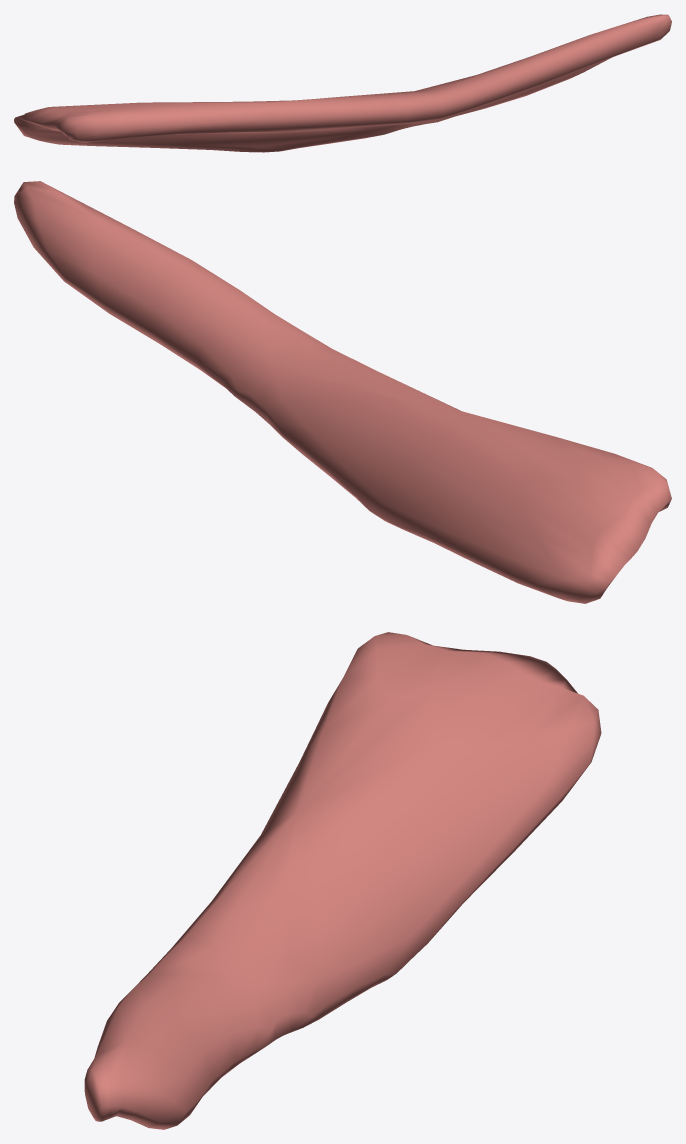
3 renders of one model, top to bottom at view 1: azimuth 30°, elevation 25°; view 2: azimuth 150°, elevation 25°; view 3: azimuth 270°, elevation 25°, orthographic. The views are drawn at different scales.
Visible parts, largest first — view 1: ZA_e9a7b46c023fc6a9; view 2: ZA_e9a7b46c023fc6a9; view 3: ZA_e9a7b46c023fc6a9.
Part boxes in pixels (box(x1,y1,x2,y2)): ZA_e9a7b46c023fc6a9: box(14, 14, 671, 152); ZA_e9a7b46c023fc6a9: box(14, 181, 671, 603); ZA_e9a7b46c023fc6a9: box(84, 632, 601, 1129).
Bounding box in the file's own units: 0.00992 × 0.00185 × 0.00407.
